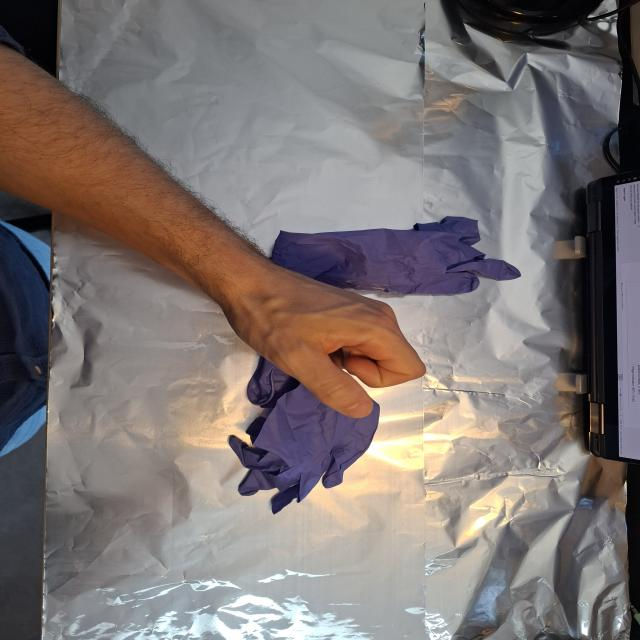glove_off: (215, 272, 430, 420)
